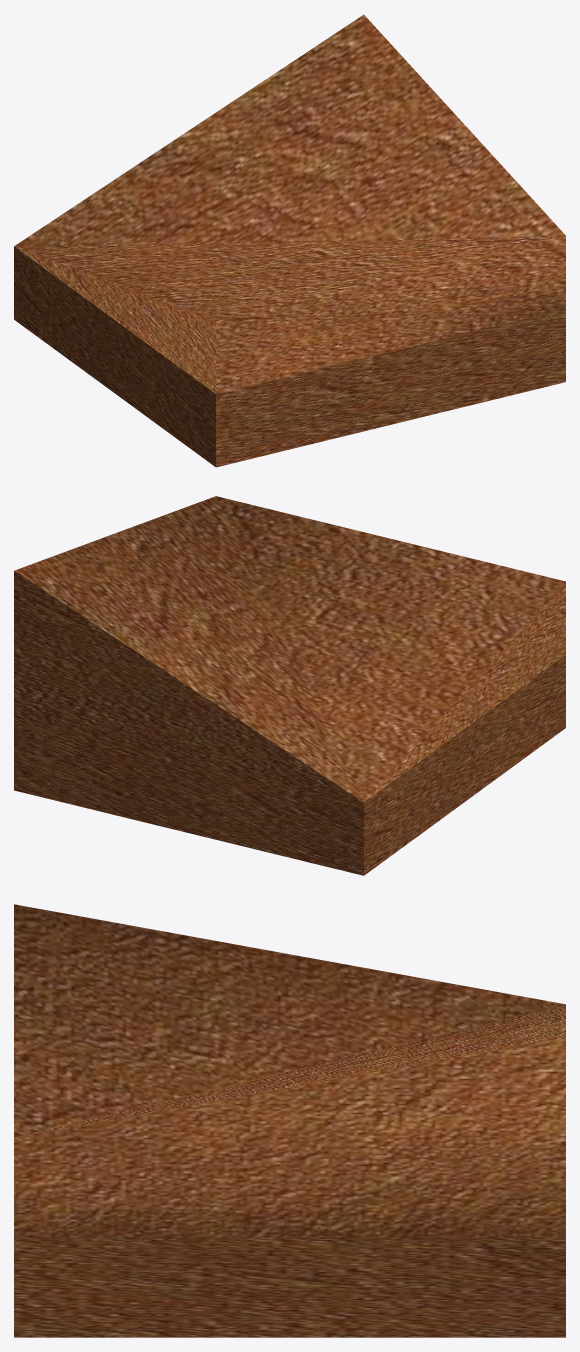
Rendered from Map0211.fbx.
The picture shows the model from 3 angles, top to bottom: view 1: azimuth 30°, elevation 25°; view 2: azimuth 150°, elevation 25°; view 3: azimuth 270°, elevation 25°; orthographic projection. The views are drawn at different scales.
Visible parts, largest first — view 1: Map0211, Map0000; view 2: Map0211, Map0000; view 3: Map0211, Map0000.
Boxes of the visible parts, x1,y1,x2,y2 form: Map0211: (14,14,565,393); Map0000: (14,246,565,467); Map0211: (14,496,565,802); Map0000: (14,655,565,875); Map0211: (14,904,565,1237); Map0000: (14,1237,565,1337).
Size of the model in its own units: 200 by 120 by 200.
2 materials, 2 textured.
